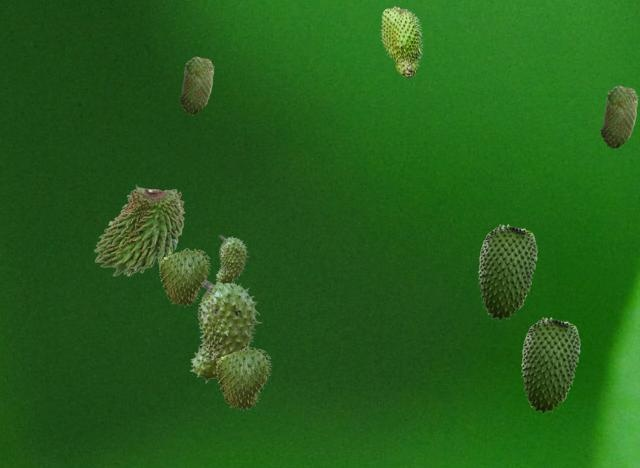guyabano: (93, 184, 184, 275), (189, 280, 261, 382), (478, 224, 536, 320), (521, 317, 579, 413), (216, 347, 271, 410), (380, 6, 422, 78), (159, 248, 210, 306), (600, 85, 637, 148), (179, 56, 213, 114), (215, 235, 248, 284)
